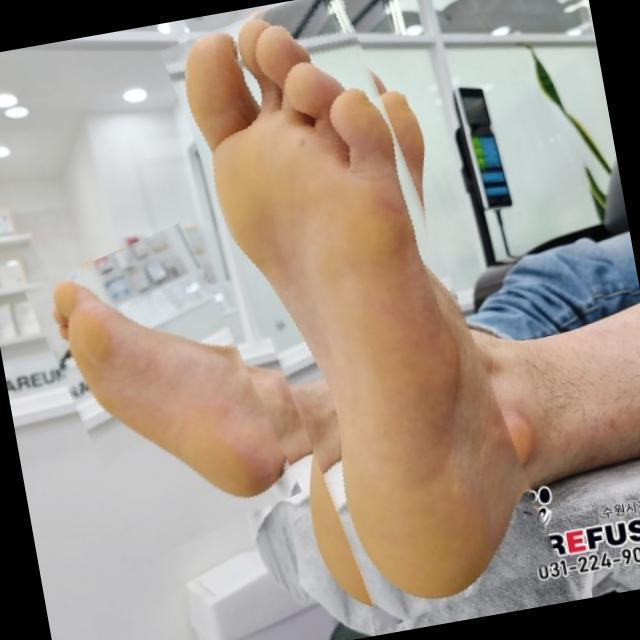No_Shoes: (181, 28, 523, 582), (24, 259, 266, 510)
